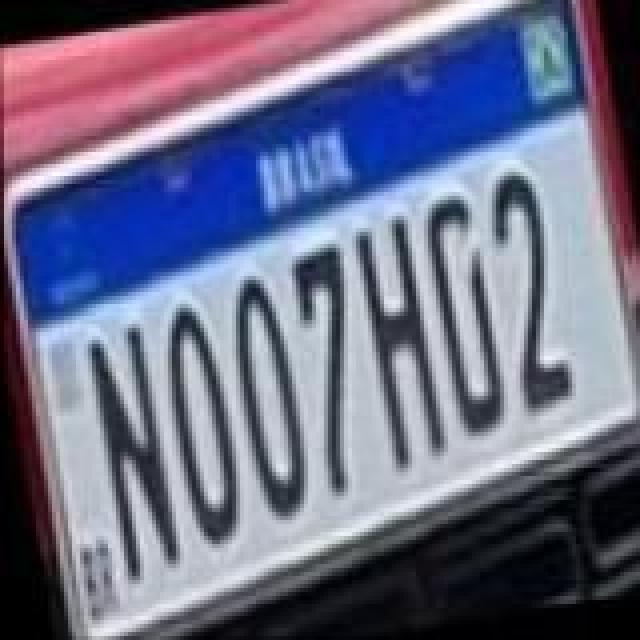2: (484, 162, 580, 414)
7: (284, 246, 380, 502)
D: (416, 194, 512, 446)
H: (346, 214, 446, 474)
N: (80, 320, 184, 584)
O: (220, 270, 320, 526), (148, 298, 248, 550)
